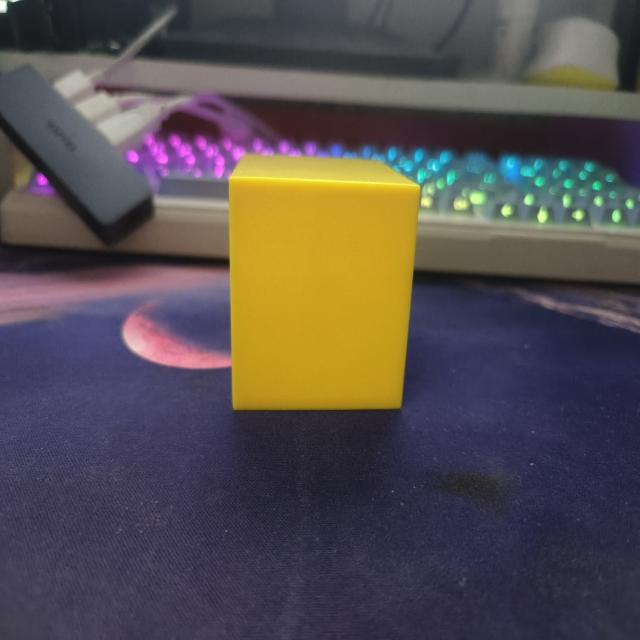yellow: (227, 156, 421, 414)
